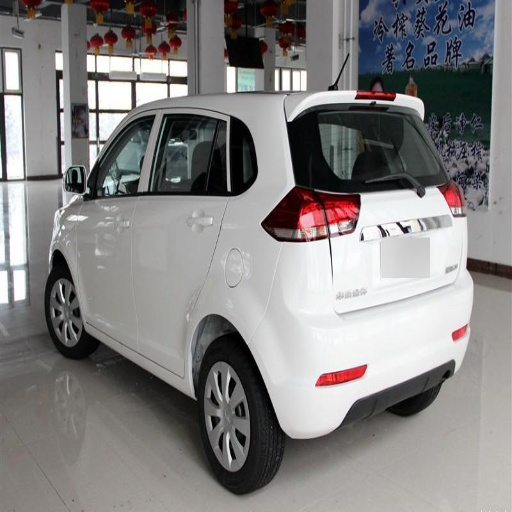back_bumper: (250, 283, 471, 434)
back_glass: (295, 108, 440, 186)
back_left_door: (132, 109, 228, 366)
trunk: (281, 184, 457, 313)
